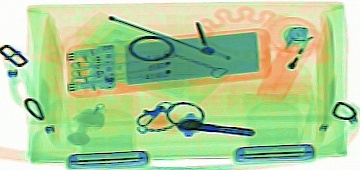lighter: (255, 24, 317, 102)
